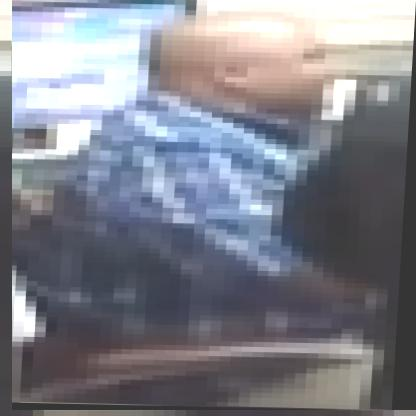Person: (11, 0, 415, 412)
